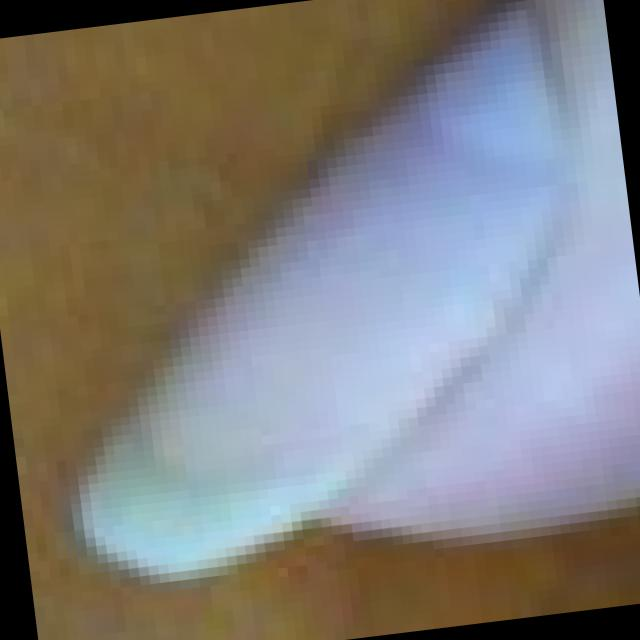Nail: (71, 0, 567, 581)
